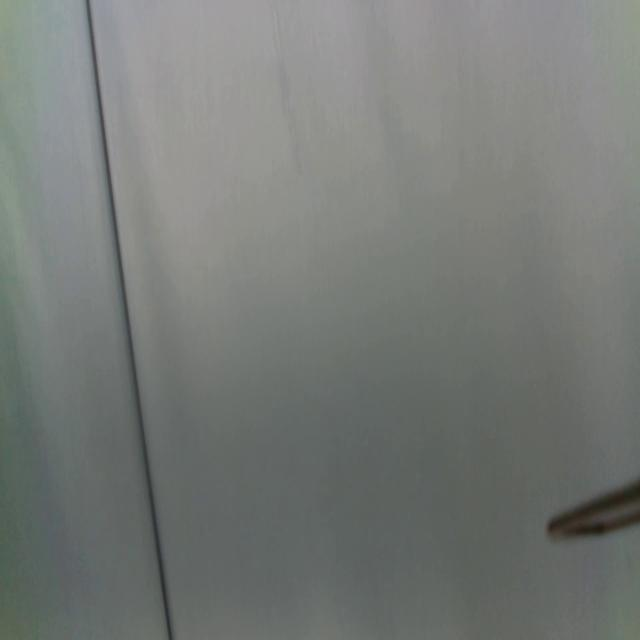crease: (87, 0, 174, 640), (272, 0, 301, 164)
